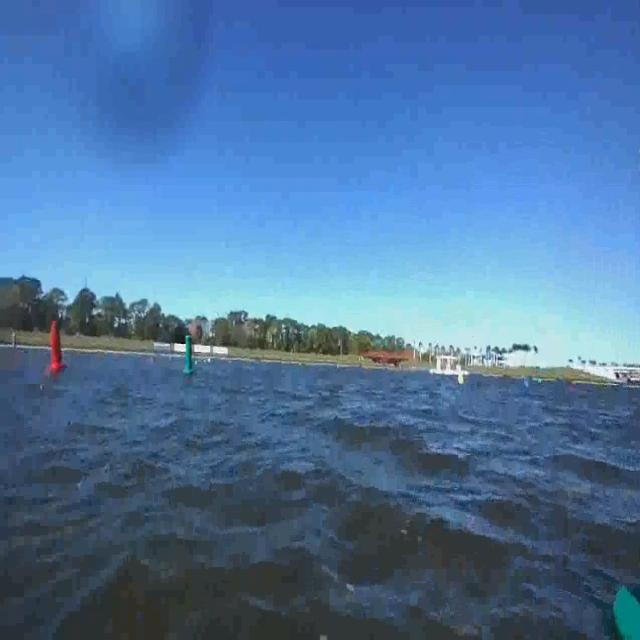green-column-buoy: (608, 552, 640, 640), (179, 309, 205, 393)
red-buoy: (44, 312, 64, 382)
red-column-buoy: (45, 306, 63, 379)
